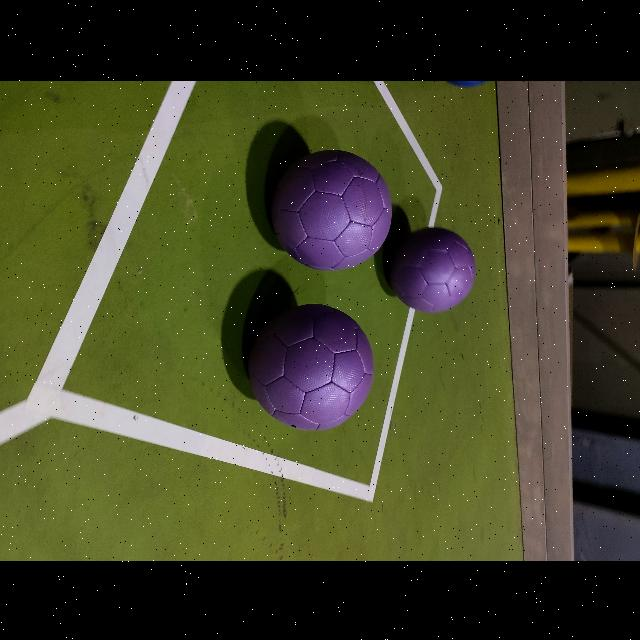B: (434, 80, 506, 86)
P: (250, 304, 374, 428), (272, 149, 392, 269), (389, 226, 475, 312)
